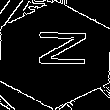N_W: (25, 34, 85, 76)
